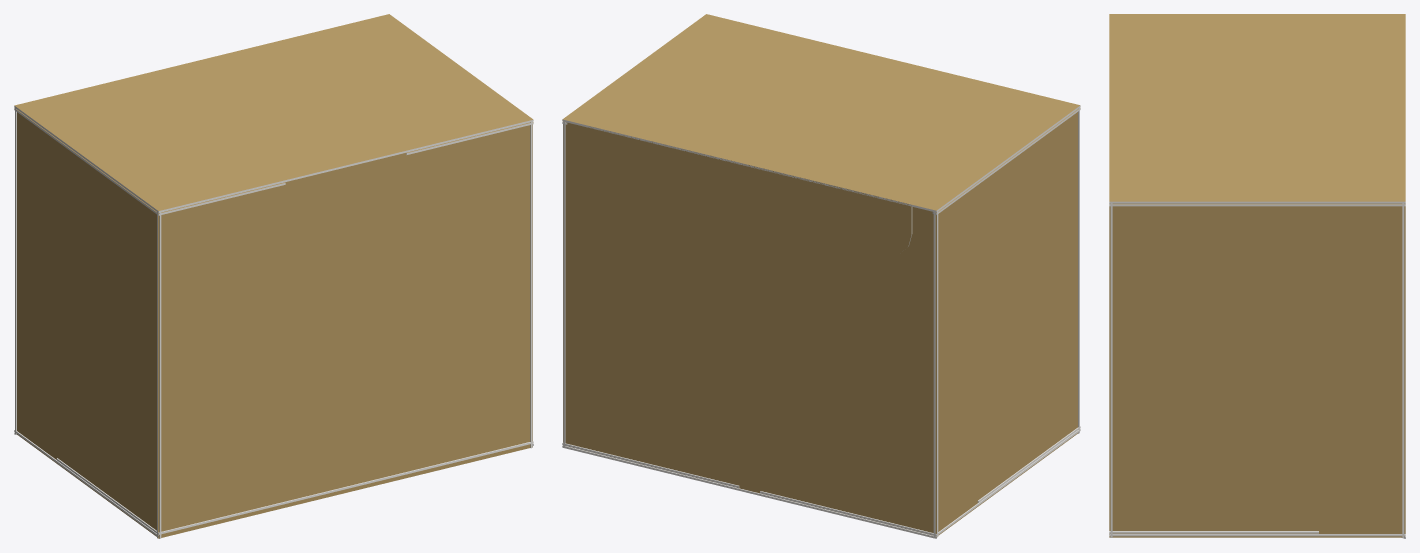
3 views of the same model, side by side, from view 1: azimuth 30°, elevation 25°; view 2: azimuth 150°, elevation 25°; view 3: azimuth 270°, elevation 25° (orthographic). The views are drawn at different scales.
Visible parts, largest first — view 1: Packive_Box_fefco0215; view 2: Packive_Box_fefco0215; view 3: Packive_Box_fefco0215.
Part boxes in pixels (left/top/right/bottom): Packive_Box_fefco0215: left=14, top=14, right=533, bottom=538; Packive_Box_fefco0215: left=562, top=14, right=1080, bottom=538; Packive_Box_fefco0215: left=1109, top=14, right=1405, bottom=538.
Size of the model in its own units: 0.3 by 0.2515 by 0.2.
Materials: 24 (12 with a texture image).
